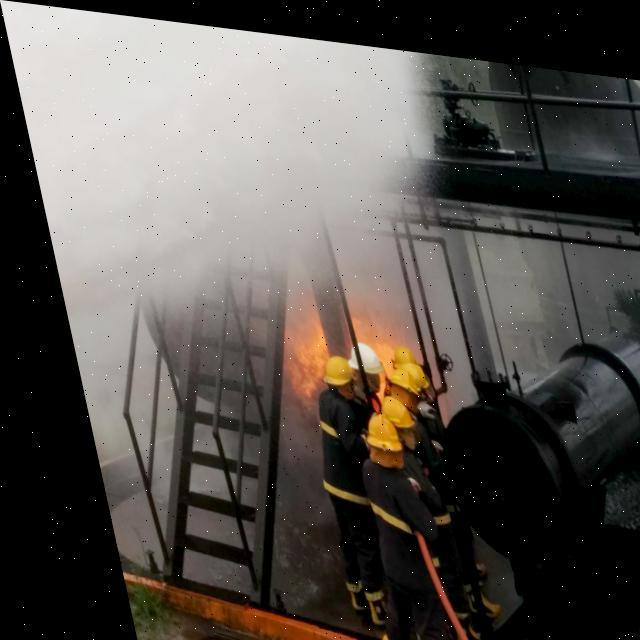Fire: (258, 289, 412, 415)
